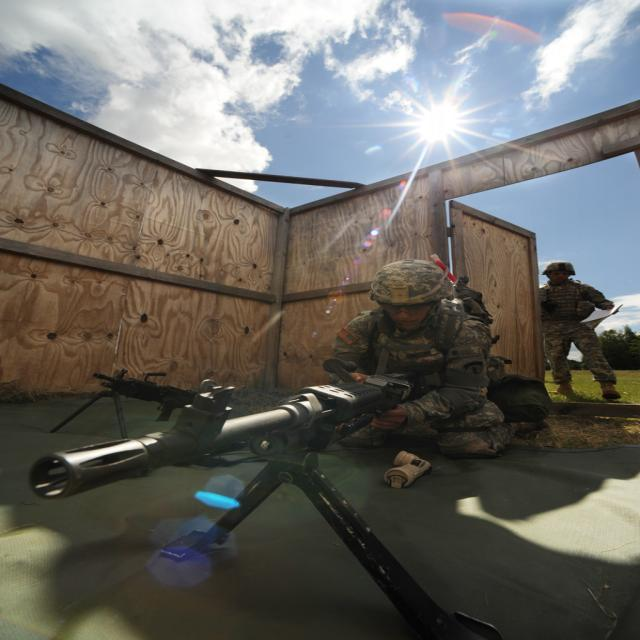weapon: (22, 374, 500, 637)
